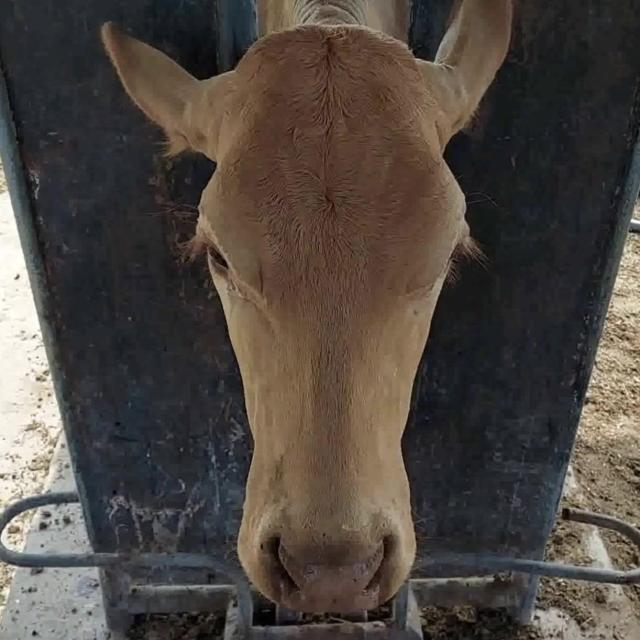cowFace: (199, 22, 466, 600)
